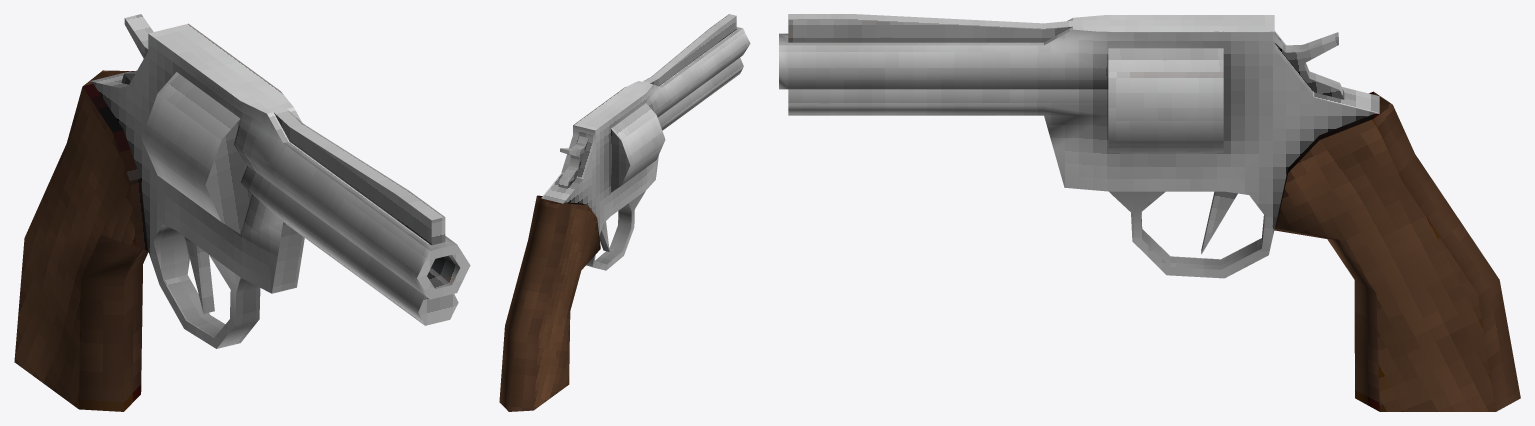
The model's file is Python.fbx.
3 views of the same model, side by side, from view 1: azimuth 30°, elevation 25°; view 2: azimuth 150°, elevation 25°; view 3: azimuth 270°, elevation 25° (orthographic). The views are drawn at different scales.
Visible parts, largest first — view 1: Python; view 2: Python; view 3: Python.
Part boxes in pixels (left/top/right/bottom): Python: left=14, top=14, right=470, bottom=411; Python: left=499, top=14, right=750, bottom=411; Python: left=779, top=14, right=1520, bottom=411.
Size of the model in its own units: 5.87 by 21.44 by 37.79.
